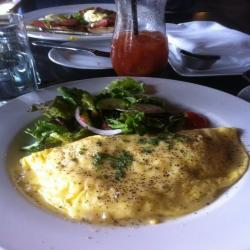omelette: (17, 124, 249, 227)
salad: (32, 86, 182, 134)
